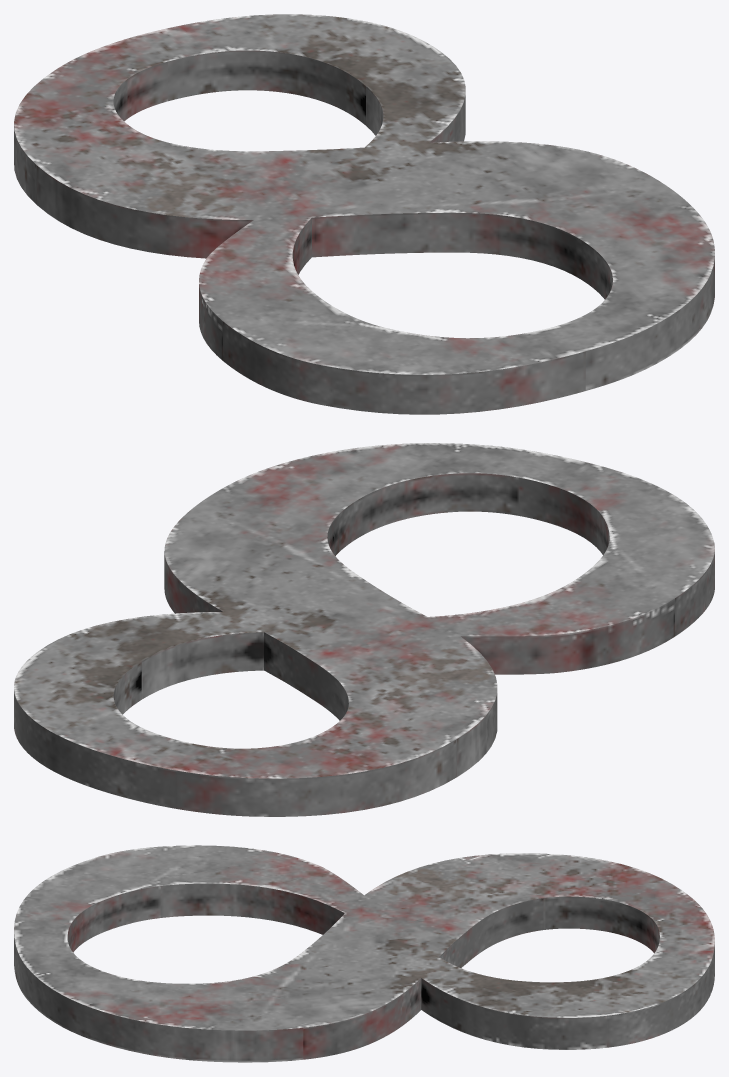
Rendered from counter_num_8.fbx.
The picture shows the model from 3 angles, top to bottom: view 1: azimuth 30°, elevation 25°; view 2: azimuth 150°, elevation 25°; view 3: azimuth 270°, elevation 25°; orthographic projection. The views are drawn at different scales.
Parts seen in each view (by area): view 1: 8; view 2: 8; view 3: 8.
Boxes of the visible parts, x1,y1,x2,y2 form: 8: (14, 14, 714, 414); 8: (14, 443, 714, 816); 8: (14, 845, 714, 1062).
Bounding box in the file's own units: 12.65 × 1.02 × 20.25.
